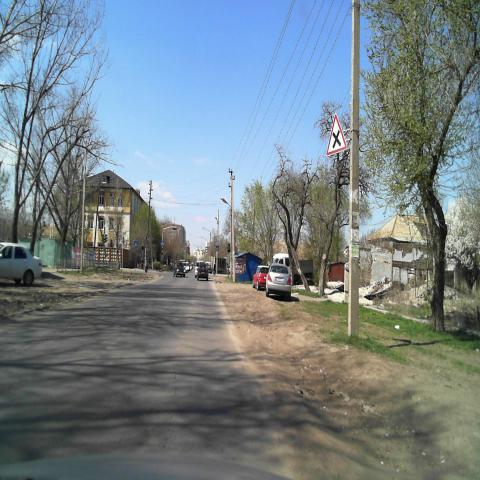1_6: (326, 112, 348, 157)
